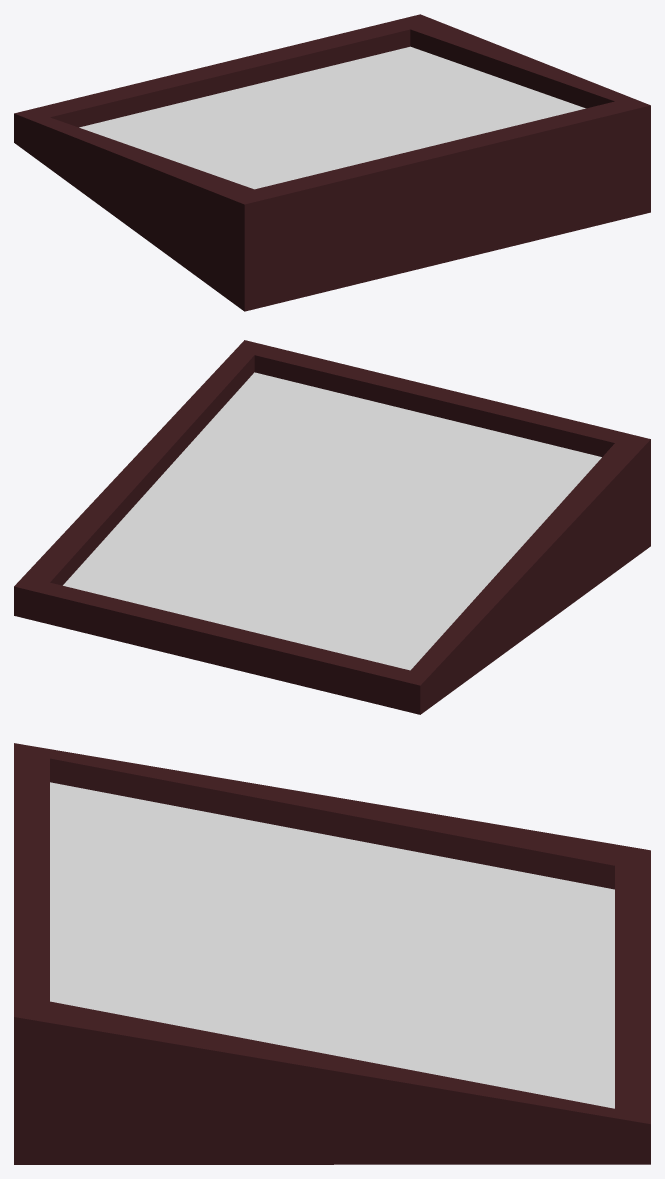
Rendered from Oil_Filtr_Screen.fbx.
3 views of the same model, one above another, from view 1: azimuth 30°, elevation 25°; view 2: azimuth 150°, elevation 25°; view 3: azimuth 270°, elevation 25° (orthographic). The views are drawn at different scales.
Parts seen in each view (by area): view 1: Oil_Filtr_Screen; view 2: Oil_Filtr_Screen; view 3: Oil_Filtr_Screen.
Part boxes in pixels (<box>): Oil_Filtr_Screen: <box>14,14,650,311</box>; Oil_Filtr_Screen: <box>14,340,650,714</box>; Oil_Filtr_Screen: <box>14,743,650,1164</box>.
Size of the model in its own units: 2.6 by 0.6558 by 2.56.
